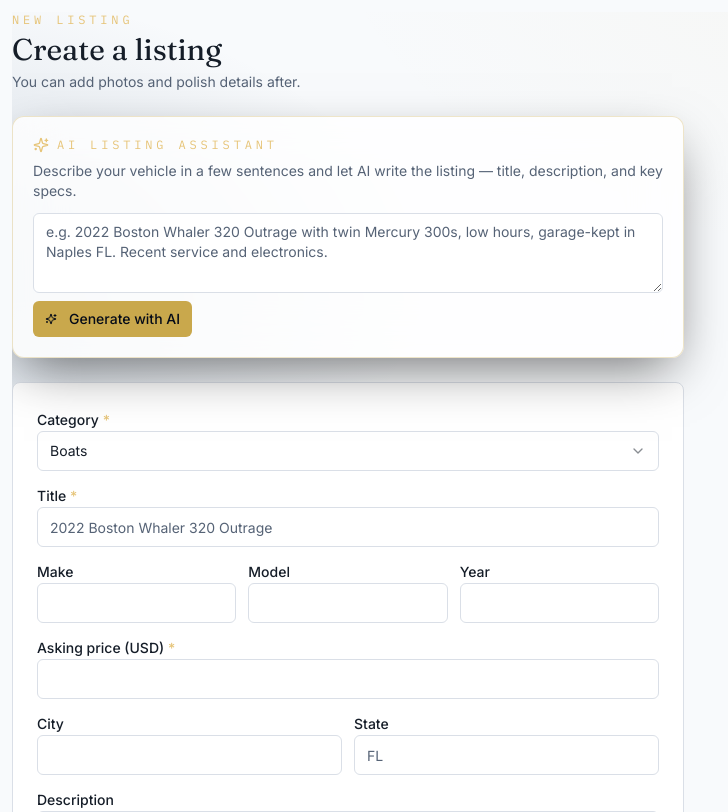
Test: CreateListing — AI assistant › shows the AI error with a retry control on failure
Replace the text in the text box named "AI prompt" with "a boat" at (348, 253), box x1=33 y1=213 x2=663 y2=293
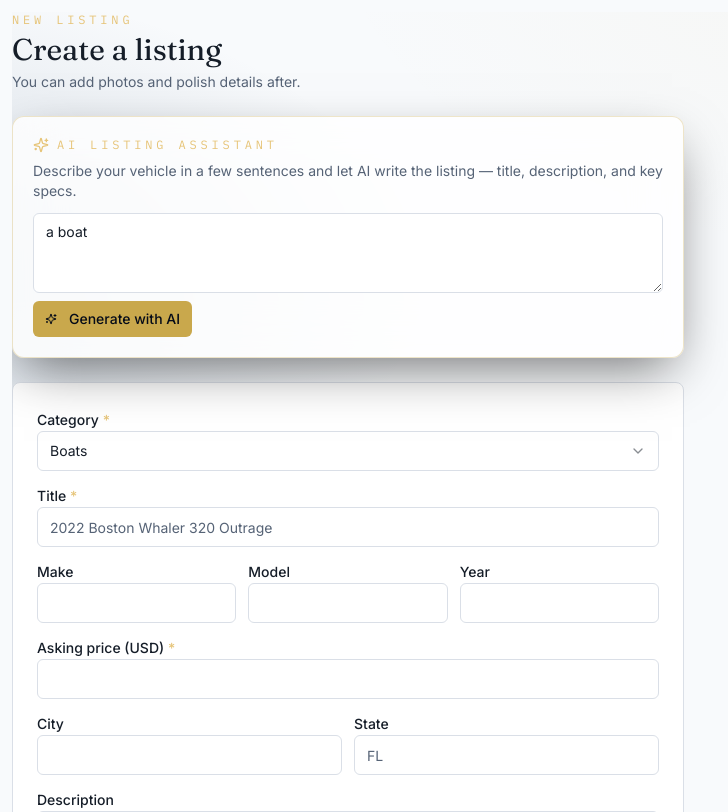
Click the button "Generate with AI" at (112, 319), box x1=33 y1=301 x2=192 y2=337
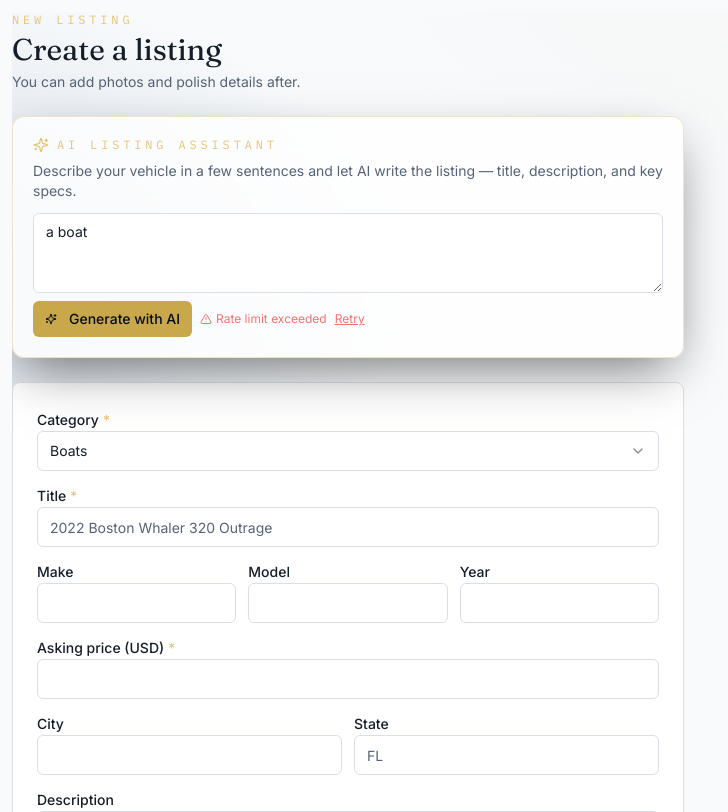
Expected: the text "Rate limit exceeded Retry" is shown, x1=200 y1=311 x2=365 y2=327
Click the button "Retry" at (350, 319), box x1=335 y1=311 x2=365 y2=327
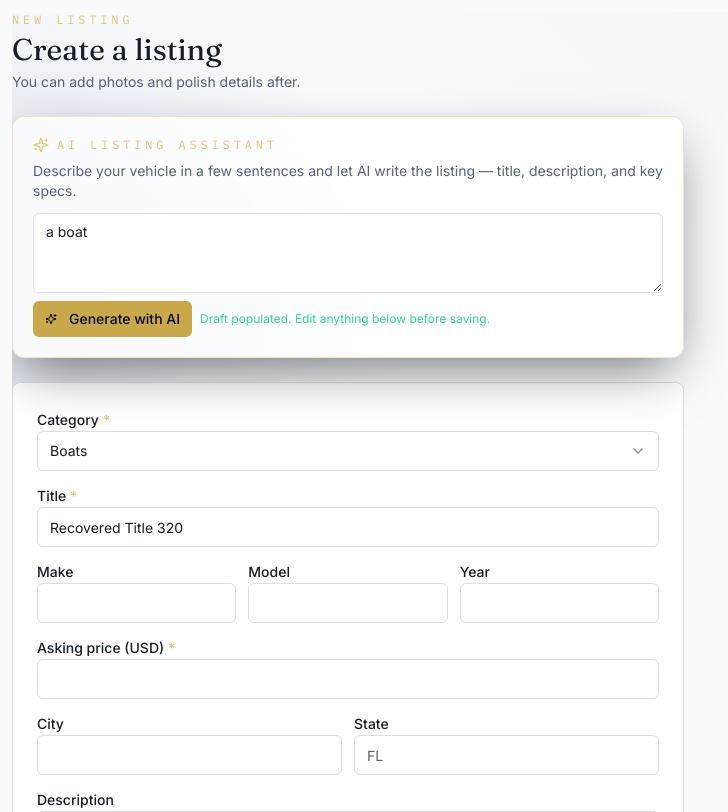
Expected: the text "Draft populated. Edit anything below before saving." is shown, x1=200 y1=311 x2=490 y2=327
Expected: the field labelled "Title *" holds "Recovered Title 320", x1=37 y1=507 x2=659 y2=547
